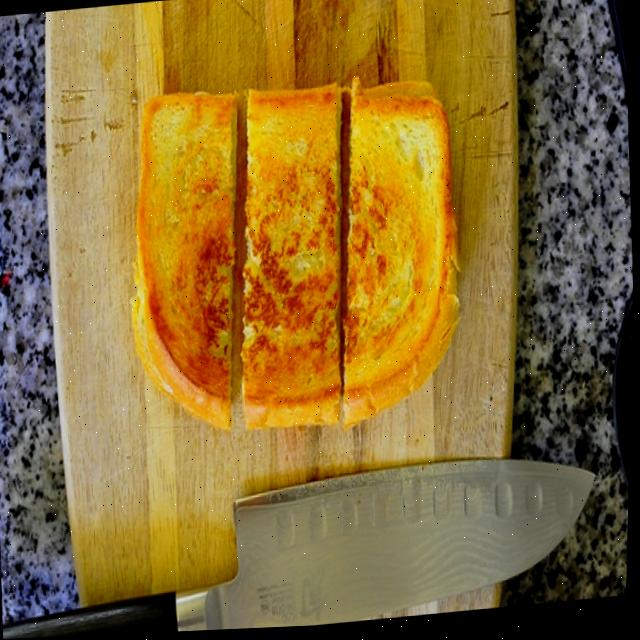面包点心: (108, 75, 471, 453)
